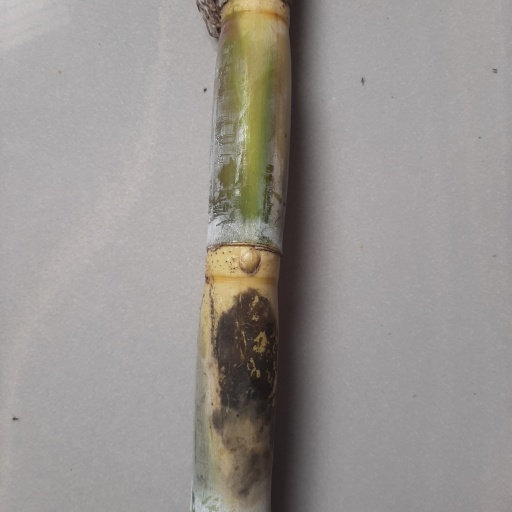Bud: (238, 248, 263, 276)
